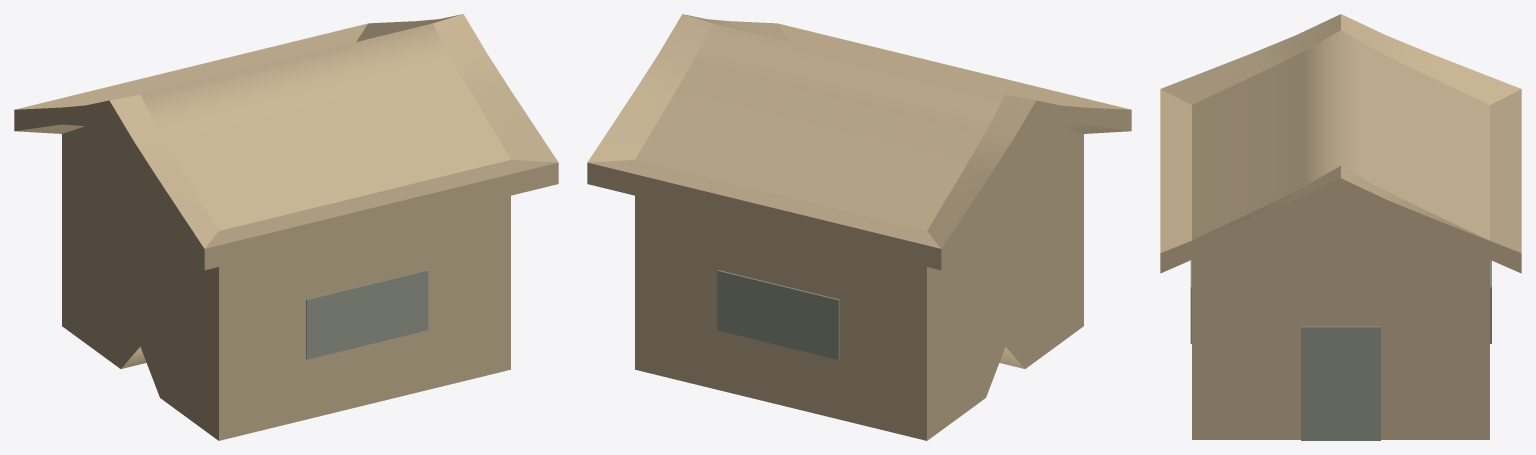
File: kousin_tatemono_3.fbx
3 views of the same model, side by side, from view 1: azimuth 30°, elevation 25°; view 2: azimuth 150°, elevation 25°; view 3: azimuth 270°, elevation 25° (orthographic). The views are drawn at different scales.
Parts seen in each view (by area): view 1: pasted__pCube10, pasted__pCube21; view 2: pasted__pCube10, pasted__pCube20; view 3: pasted__pCube10, pasted__pCube11.
Part boxes in pixels (<box>): pasted__pCube10: <box>14,14,558,440</box>; pasted__pCube21: <box>306,270,428,359</box>; pasted__pCube10: <box>587,14,1131,440</box>; pasted__pCube20: <box>717,270,839,359</box>; pasted__pCube10: <box>1160,14,1521,439</box>; pasted__pCube11: <box>1301,326,1380,440</box>.
Size of the model in its own units: 907 by 711 by 843.
